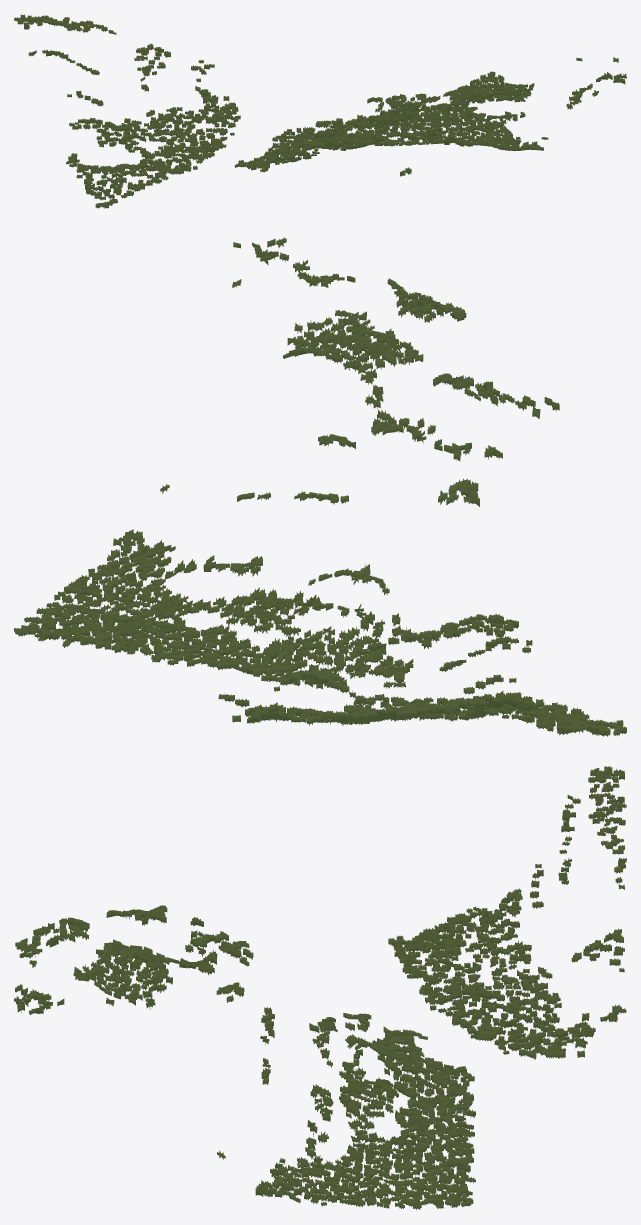
The model's file is TRB8-GRASS-CHUNK-1-1.glb.
3 views of the same model, one above another, from view 1: azimuth 30°, elevation 25°; view 2: azimuth 150°, elevation 25°; view 3: azimuth 270°, elevation 25° (orthographic). The views are drawn at different scales.
Visible parts, largest first — view 1: TRB8-GRASS-CHUNK-1-1; view 2: TRB8-GRASS-CHUNK-1-1; view 3: TRB8-GRASS-CHUNK-1-1.
Part boxes in pixels (x1,y1,x2,y2): TRB8-GRASS-CHUNK-1-1: (14,14,626,208); TRB8-GRASS-CHUNK-1-1: (14,237,626,736); TRB8-GRASS-CHUNK-1-1: (14,766,626,1209).
Size of the model in its own units: 40.43 by 15.36 by 40.55.
Materials: 1 (1 with a texture image).
